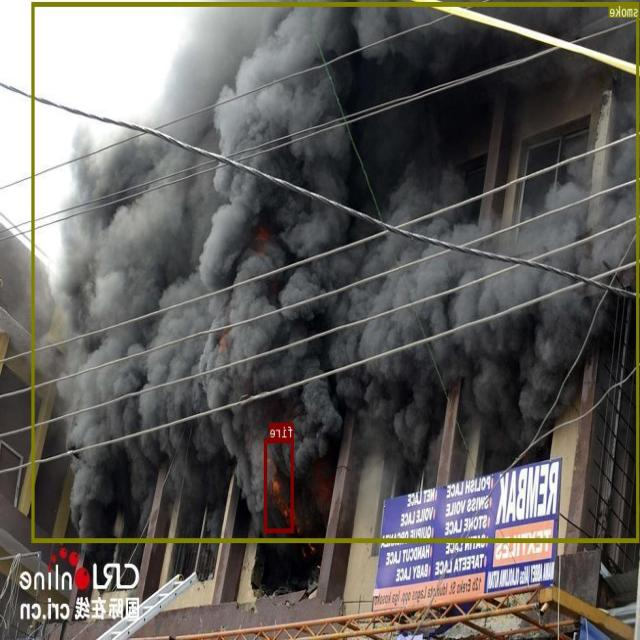fire: (265, 438, 294, 532)
smoke: (32, 1, 640, 542)
